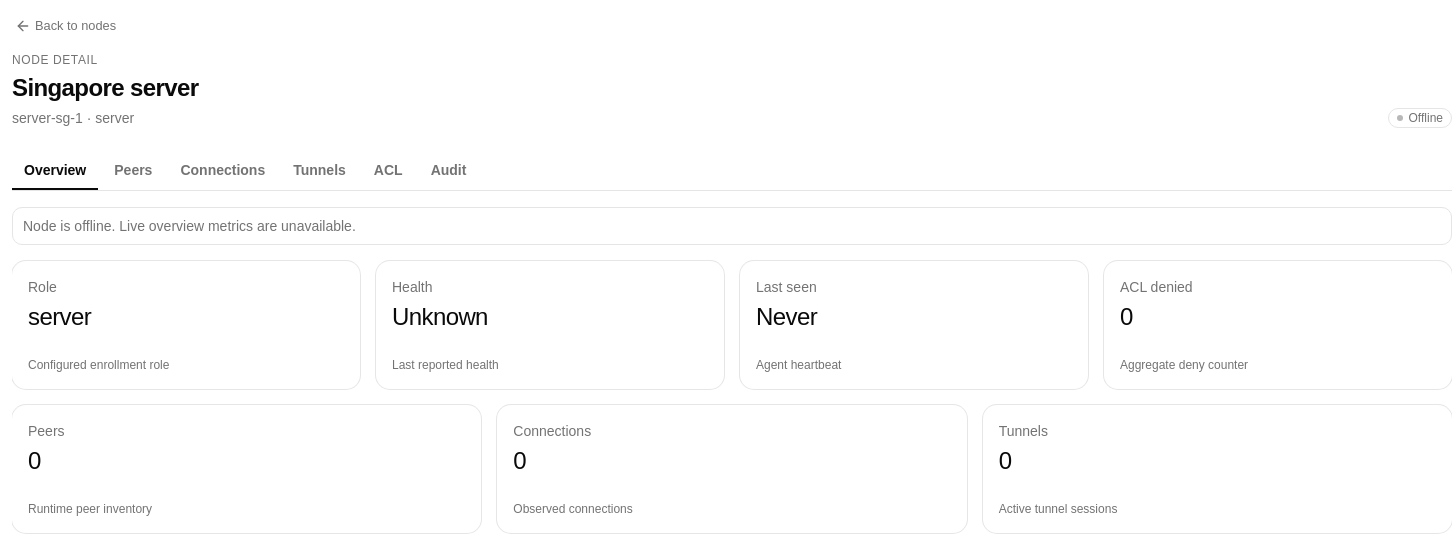
NodeDetail › does not proxy tunnels when the node is offline
What coordinates should you click on to do the following:
click the tab "Tunnels"
I would click on:
 (320, 171)
Its box is [281,152,358,190].
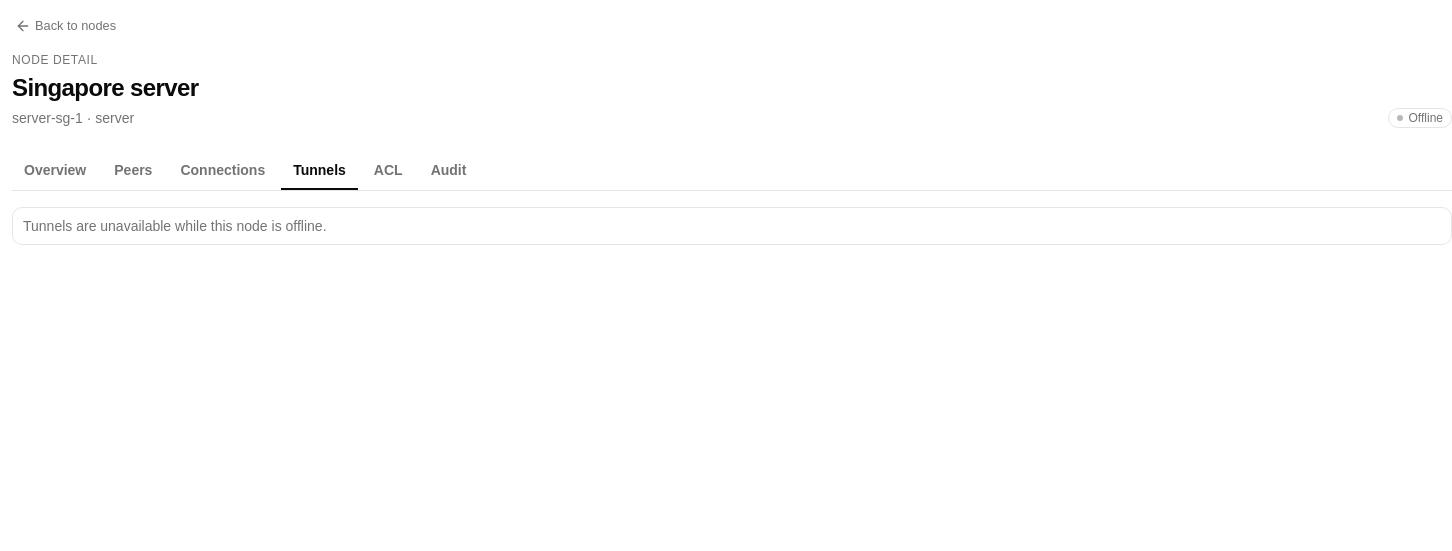
Result: the text "Tunnels are unavailable while this node is offline." is shown at [23,218,326,234]
